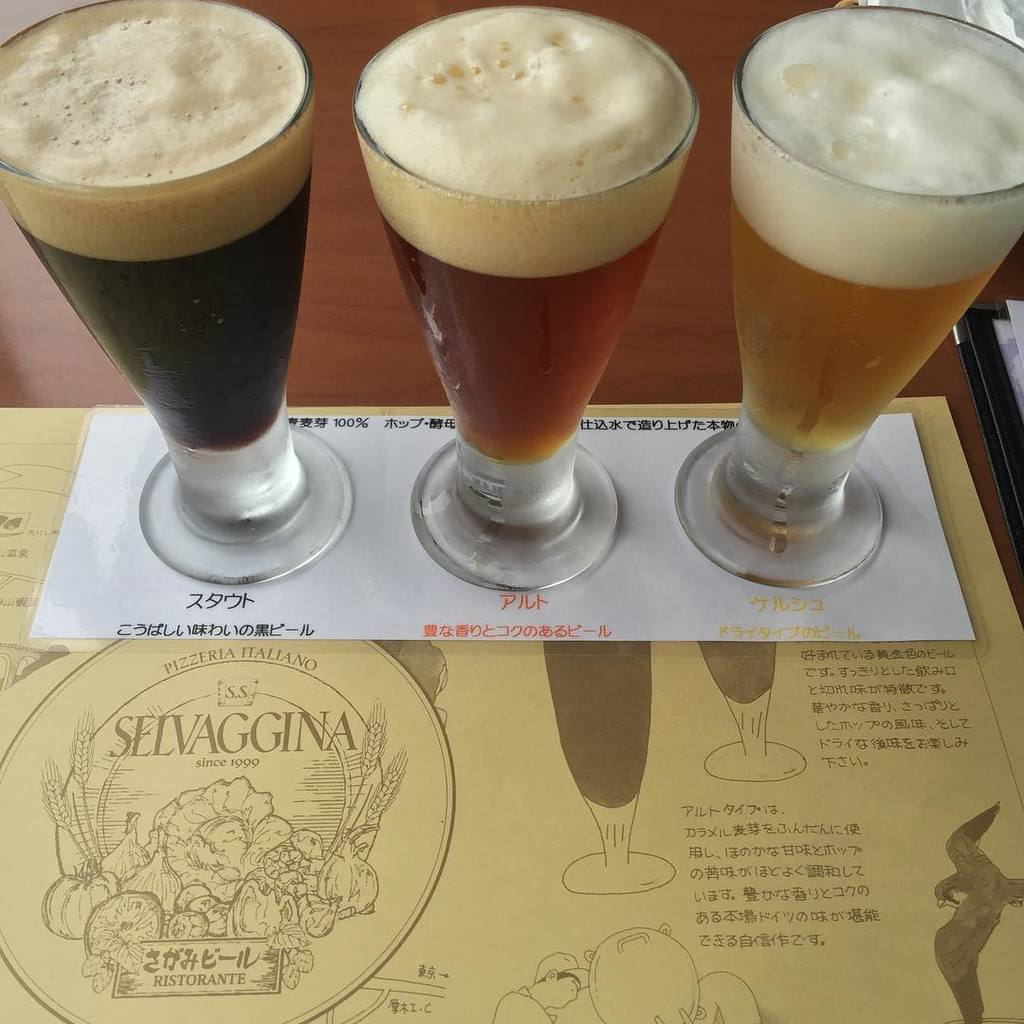Beer: (355, 4, 702, 456), (0, 0, 312, 447), (731, 3, 1023, 455)
